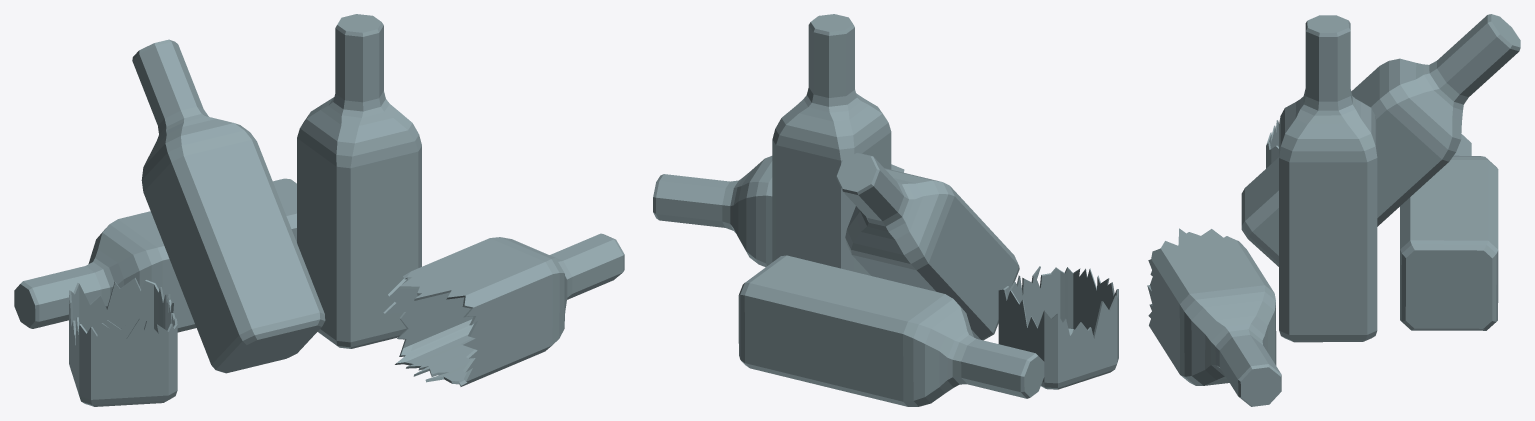
The model's file is prop_GrupoDeBotellas_Low.fbx.
3 renders of one model, left to right at view 1: azimuth 30°, elevation 25°; view 2: azimuth 150°, elevation 25°; view 3: azimuth 270°, elevation 25°, orthographic. The views are drawn at different scales.
Parts seen in each view (by area): view 1: GrupoDeBotellas; view 2: GrupoDeBotellas; view 3: GrupoDeBotellas.
Part boxes in pixels (bbox=[...]): GrupoDeBotellas: bbox=[14, 14, 624, 406]; GrupoDeBotellas: bbox=[653, 14, 1118, 406]; GrupoDeBotellas: bbox=[1147, 14, 1520, 406].
Size of the model in its own units: 70.71 by 40.37 by 45.13.
